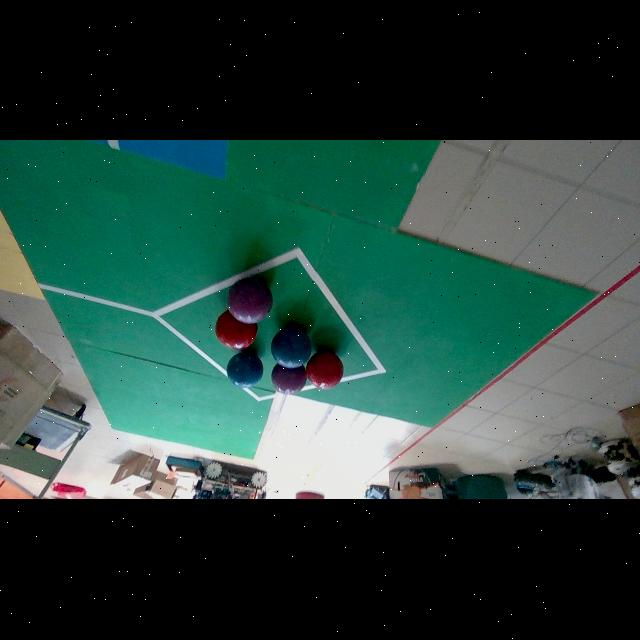B: (272, 329, 311, 369), (227, 353, 264, 389)
P: (227, 278, 273, 324), (272, 366, 307, 396)
R: (217, 311, 257, 351), (306, 351, 343, 391)
